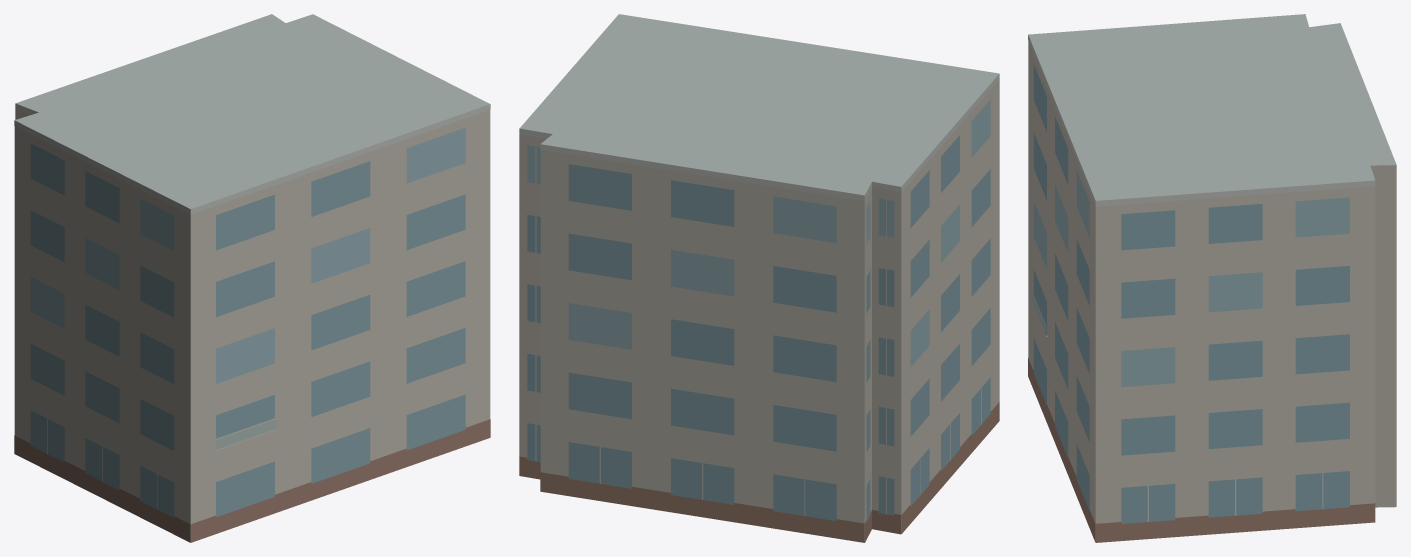
File: survey-upis-32577186.glb
3 renders of one model, left to right at view 1: azimuth 30°, elevation 25°; view 2: azimuth 150°, elevation 25°; view 3: azimuth 270°, elevation 25°, orthographic. The views are drawn at different scales.
Parts seen in each view (by area): view 1: survey-upis-32577186.tmp; view 2: survey-upis-32577186.tmp; view 3: survey-upis-32577186.tmp.
Boxes of the visible parts, x1,y1,x2,y2 form: survey-upis-32577186.tmp: (14,14,490,542); survey-upis-32577186.tmp: (519,14,999,542); survey-upis-32577186.tmp: (1028,14,1396,542).
Bounding box in the file's own units: 17 × 14.5 × 14.17.
